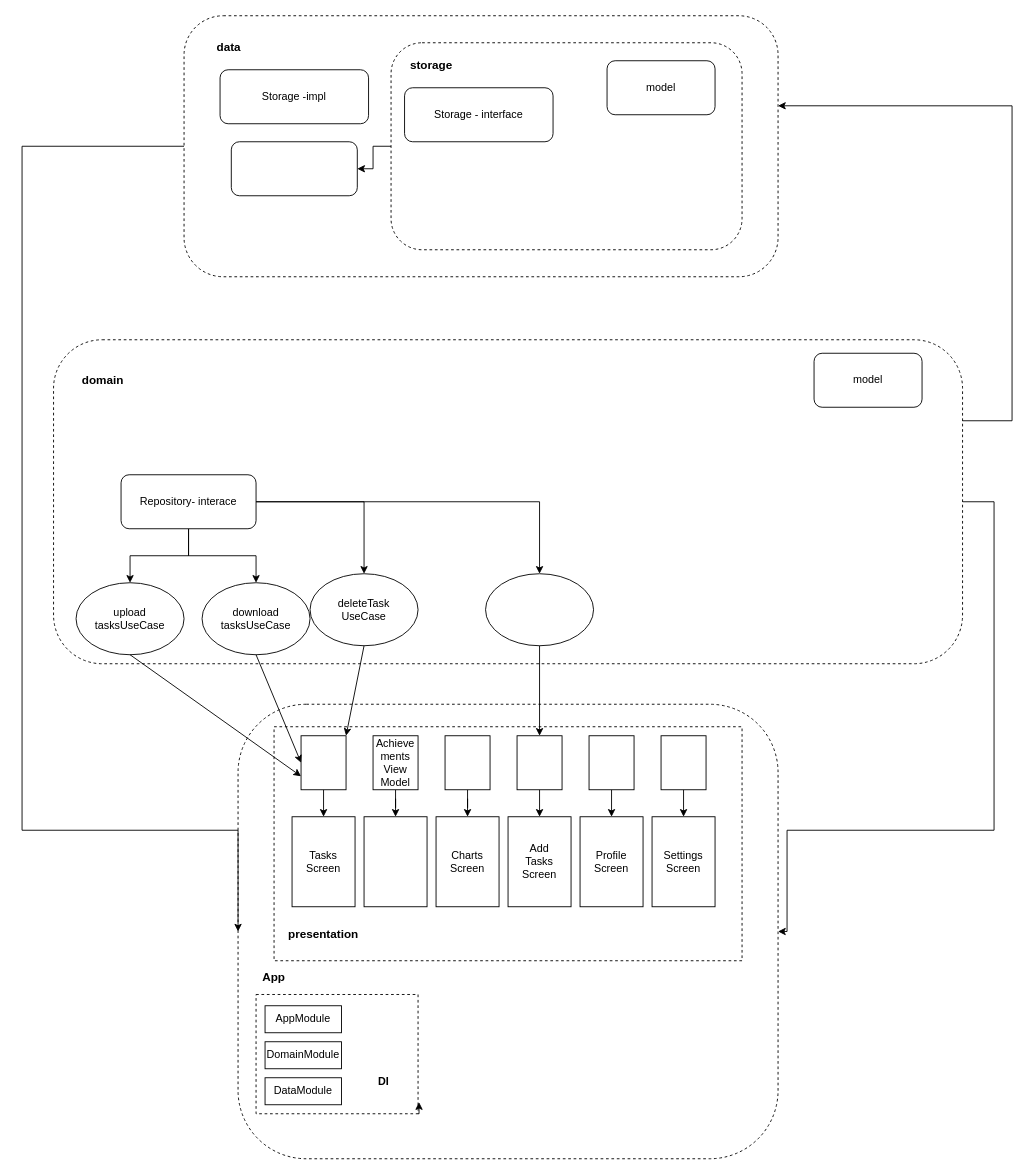
This 1035x1175 diagram has some shape labels left out. The box of each missing label's shape, as (x1, y1, x2, y2) in pixels:
achieve ments Screen: (363, 816, 427, 907)
Add Task View Model: (516, 735, 562, 790)
AddTaskUseCase: (485, 573, 594, 646)
Charts View Model: (444, 735, 490, 790)
Profile View Model: (588, 735, 634, 790)
RepositoryImpl- implementation: (230, 141, 357, 196)
Settings View Model: (660, 735, 706, 790)
Tasks View Model: (300, 735, 346, 790)
